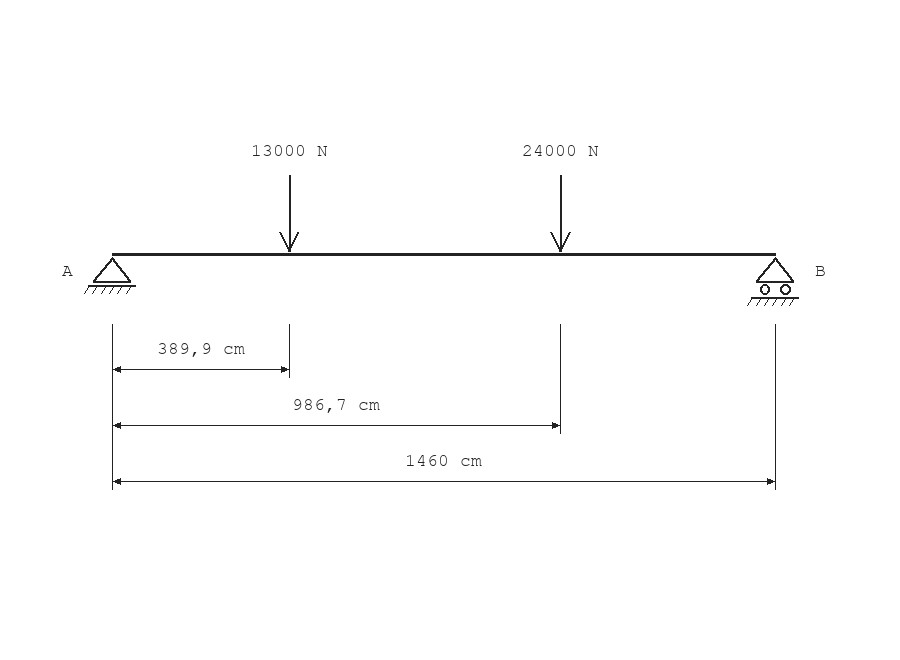pin_support: (84, 257, 136, 294)
point_load: (550, 175, 571, 252), (279, 175, 299, 252)
roller_support: (747, 257, 799, 306)
